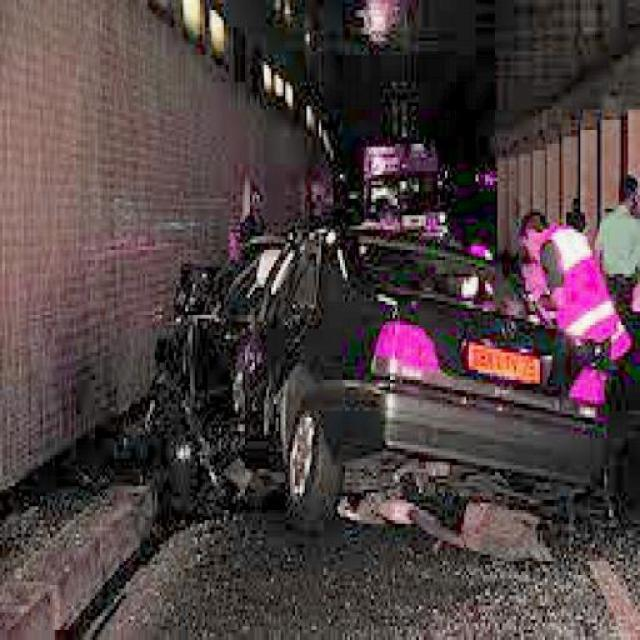car damage: (154, 231, 326, 471)
